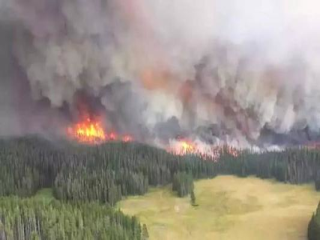fire: (68, 117, 117, 146), (172, 141, 201, 157)
smoke: (19, 21, 305, 129)
